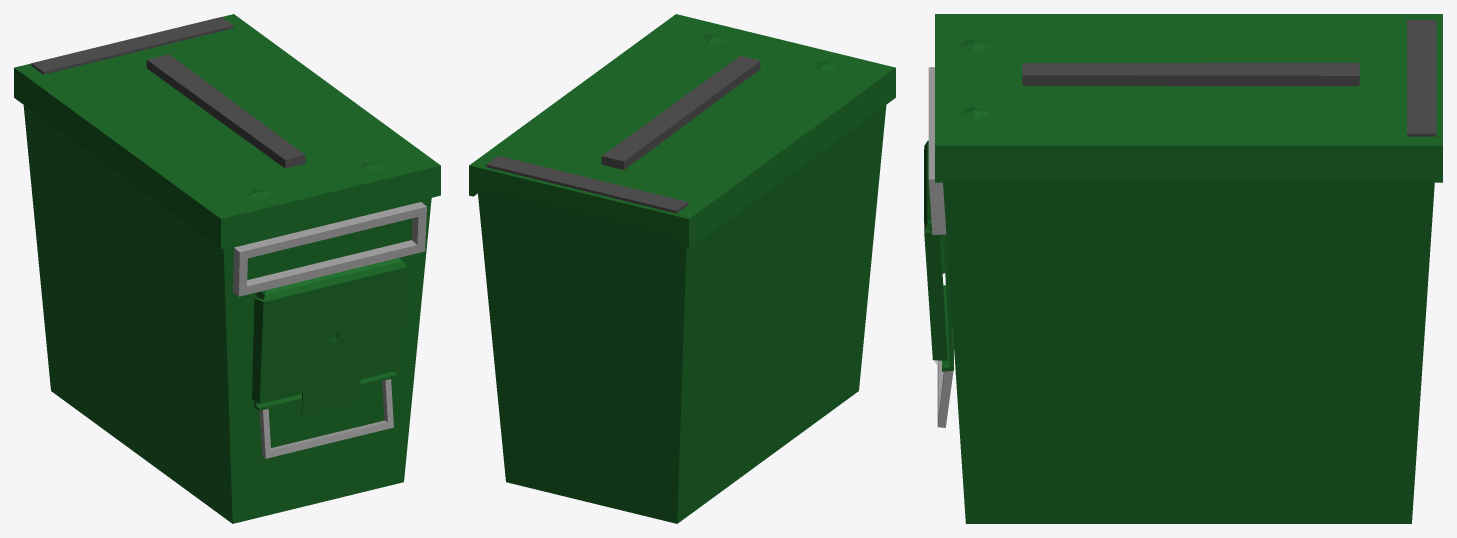
The model's file is AmmoBox.fbx.
3 renders of one model, left to right at view 1: azimuth 30°, elevation 25°; view 2: azimuth 150°, elevation 25°; view 3: azimuth 270°, elevation 25°, orthographic. The views are drawn at different scales.
Parts seen in each view (by area): view 1: AmmoBox_LOD0; view 2: AmmoBox_LOD0; view 3: AmmoBox_LOD0.
Part boxes in pixels (left/top/right/bottom): AmmoBox_LOD0: left=14, top=14, right=440, bottom=523; AmmoBox_LOD0: left=469, top=14, right=895, bottom=523; AmmoBox_LOD0: left=924, top=14, right=1442, bottom=523.
Size of what is drawn, in the model's own units: 126 by 180 by 209.
